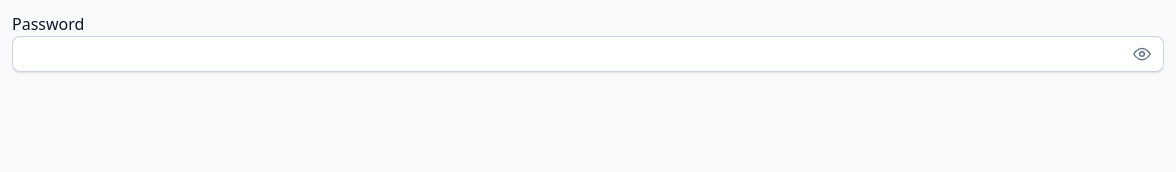
Test: PasswordInput › starts masked and toggles to plain text and back
The image size is (1176, 172).
Click the button named "Show text".
click(1142, 54)  # box x1=1120 y1=36 x2=1164 y2=72
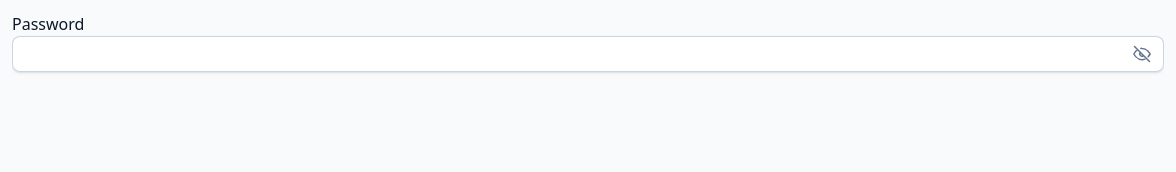
Now the button named "Hide text" is pressed
Click the button named "Hide text".
click(1142, 54)  # box x1=1120 y1=36 x2=1164 y2=72
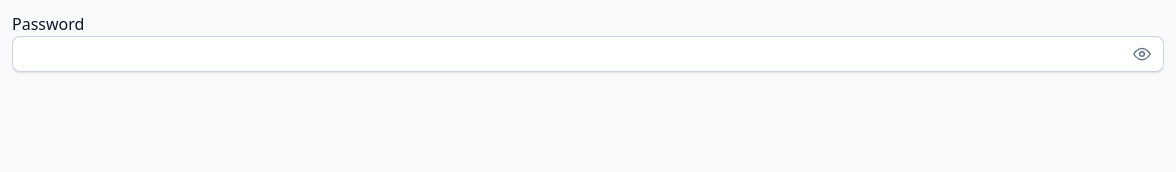
Now the button named "Show text" is not pressed, box x1=1120 y1=36 x2=1164 y2=72
